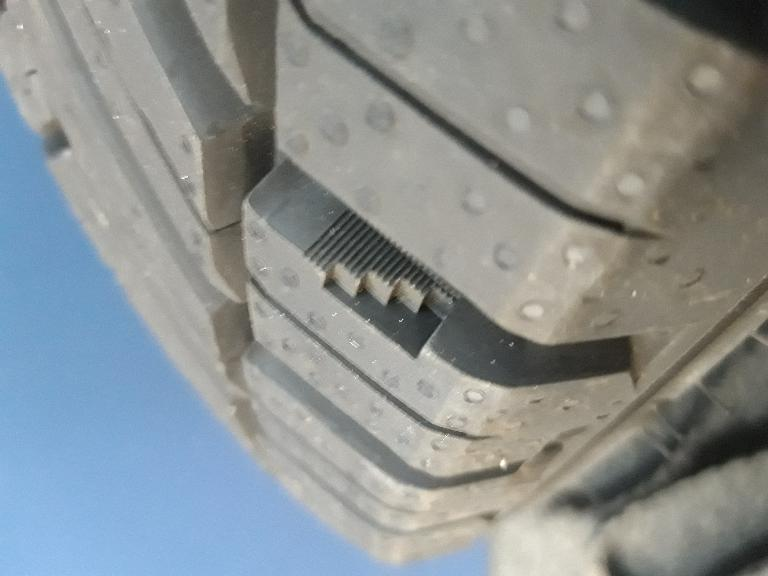temoin:100: (298, 204, 470, 369)
